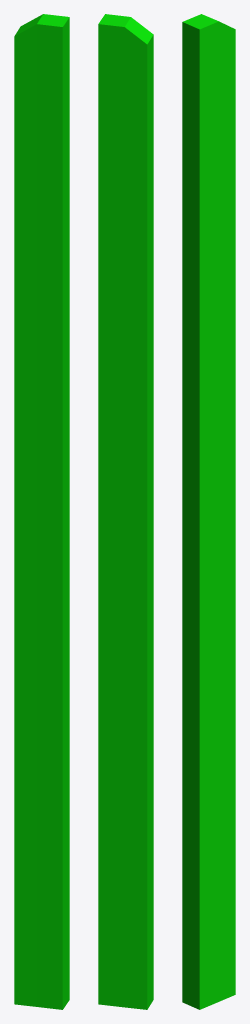
The picture shows the model from 3 angles, left to right: view 1: azimuth 30°, elevation 25°; view 2: azimuth 210°, elevation 25°; view 3: azimuth 270°, elevation 25°; orthographic projection.
Parts seen in each view (by area): view 1: Plane.038; view 2: Plane.038; view 3: Plane.038.
Boxes of the visible parts, left/top/right/bottom form: Plane.038: left=14, top=14, right=69, bottom=1009; Plane.038: left=98, top=14, right=153, bottom=1009; Plane.038: left=182, top=14, right=235, bottom=1009.
Bounding box in the file's own units: 639 × 12978 × 637.
